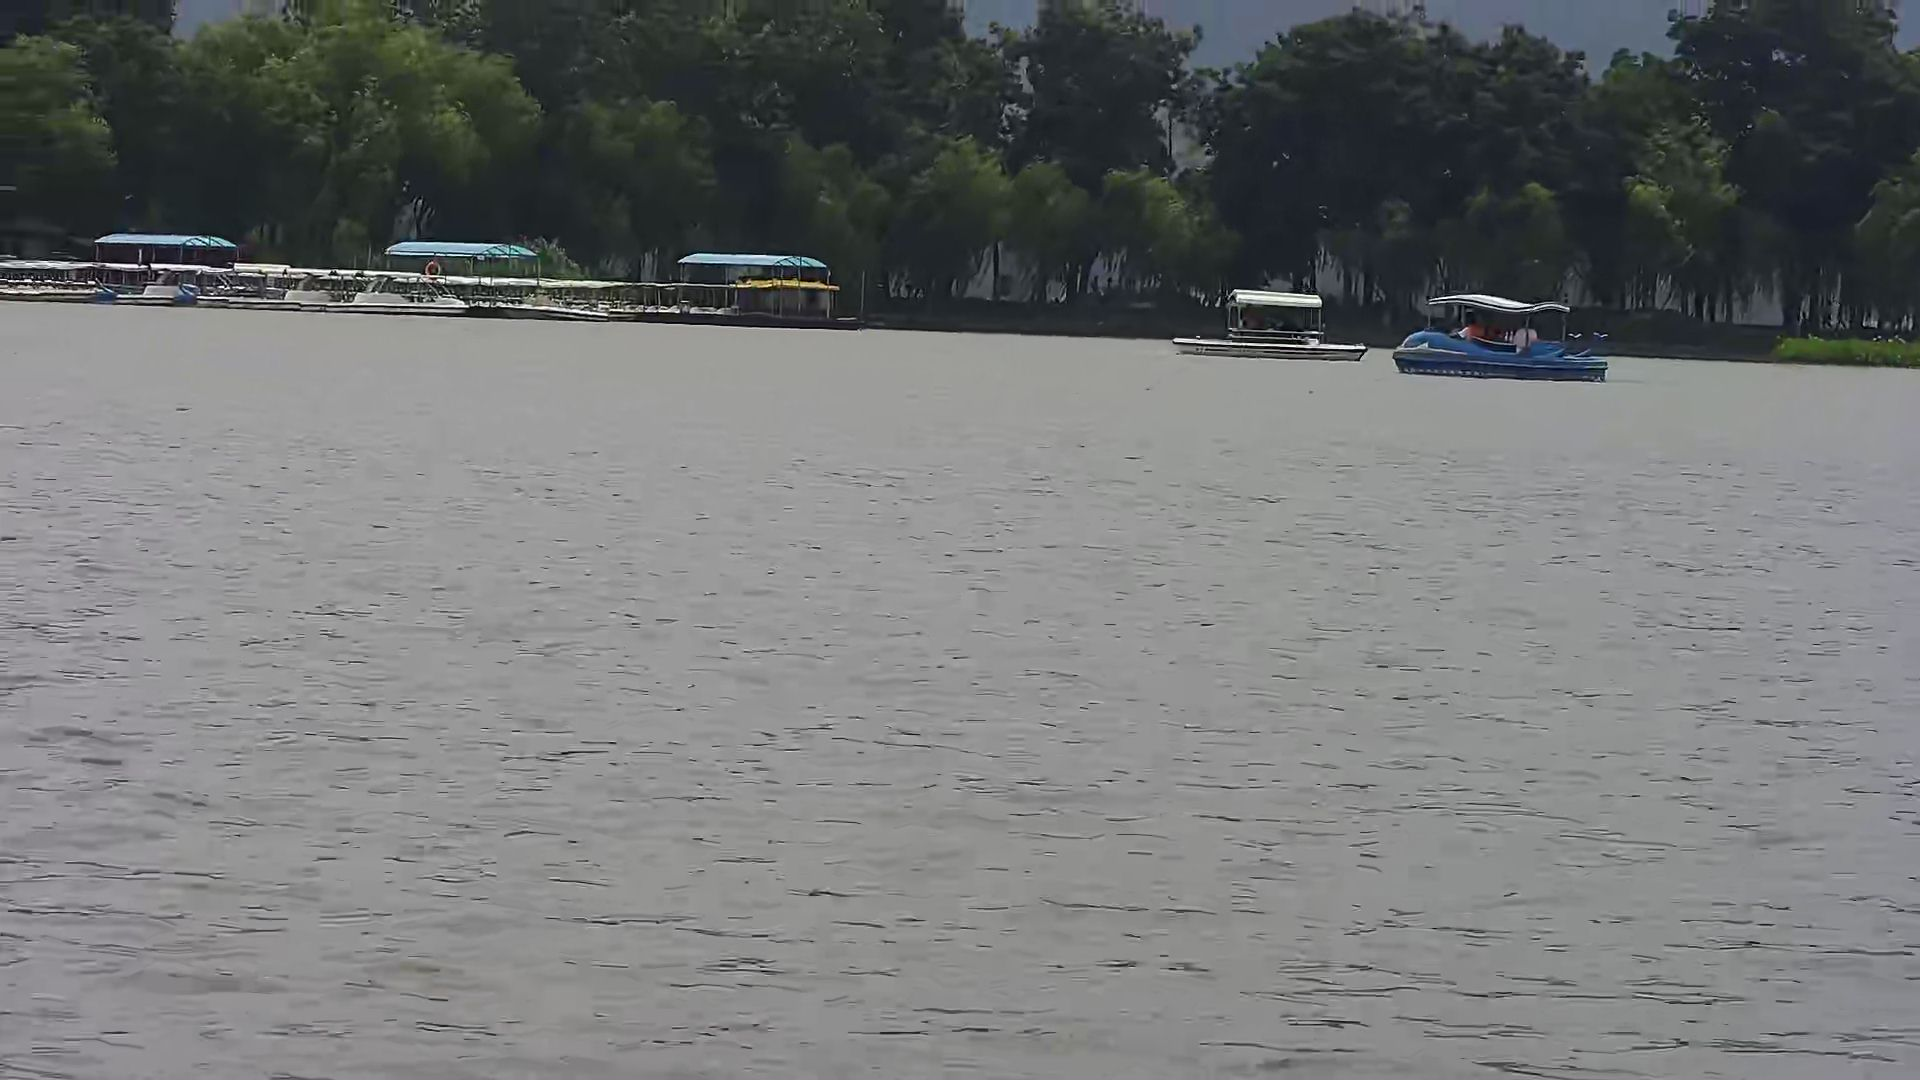boat: (1395, 284, 1610, 384), (1170, 281, 1364, 364)
harbor: (22, 227, 855, 344)
